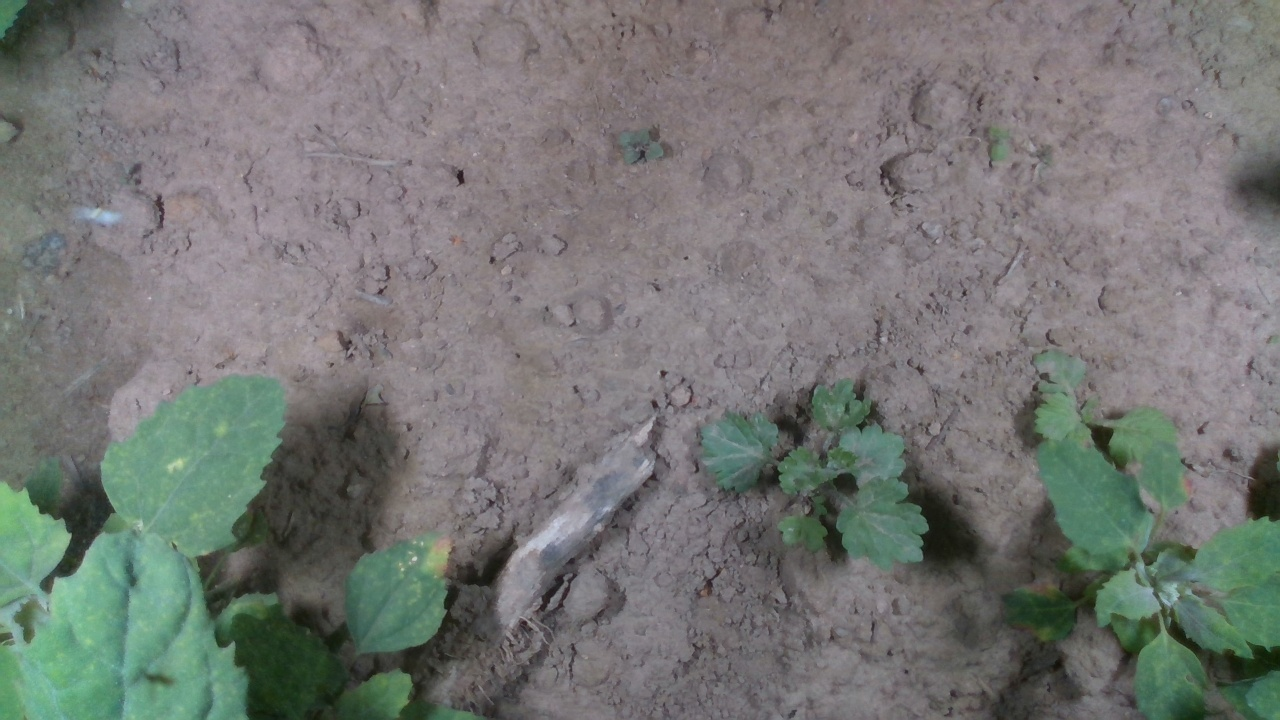weed: (615, 126, 664, 169), (985, 121, 1015, 166)
